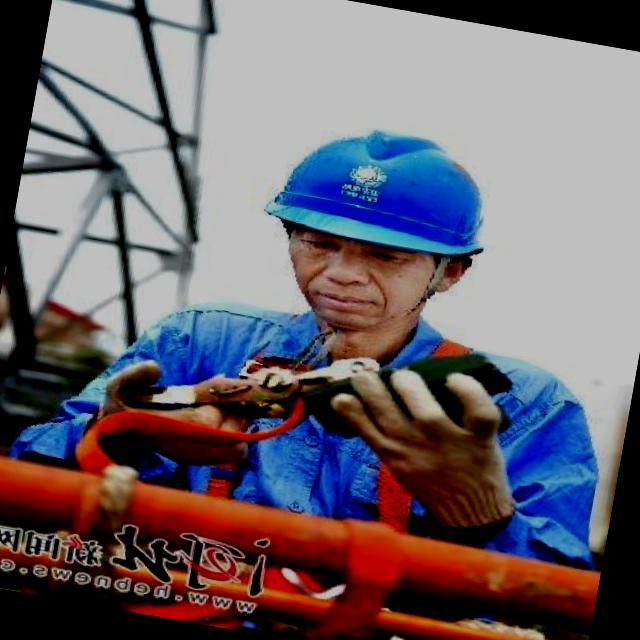helmet: (251, 108, 511, 274)
